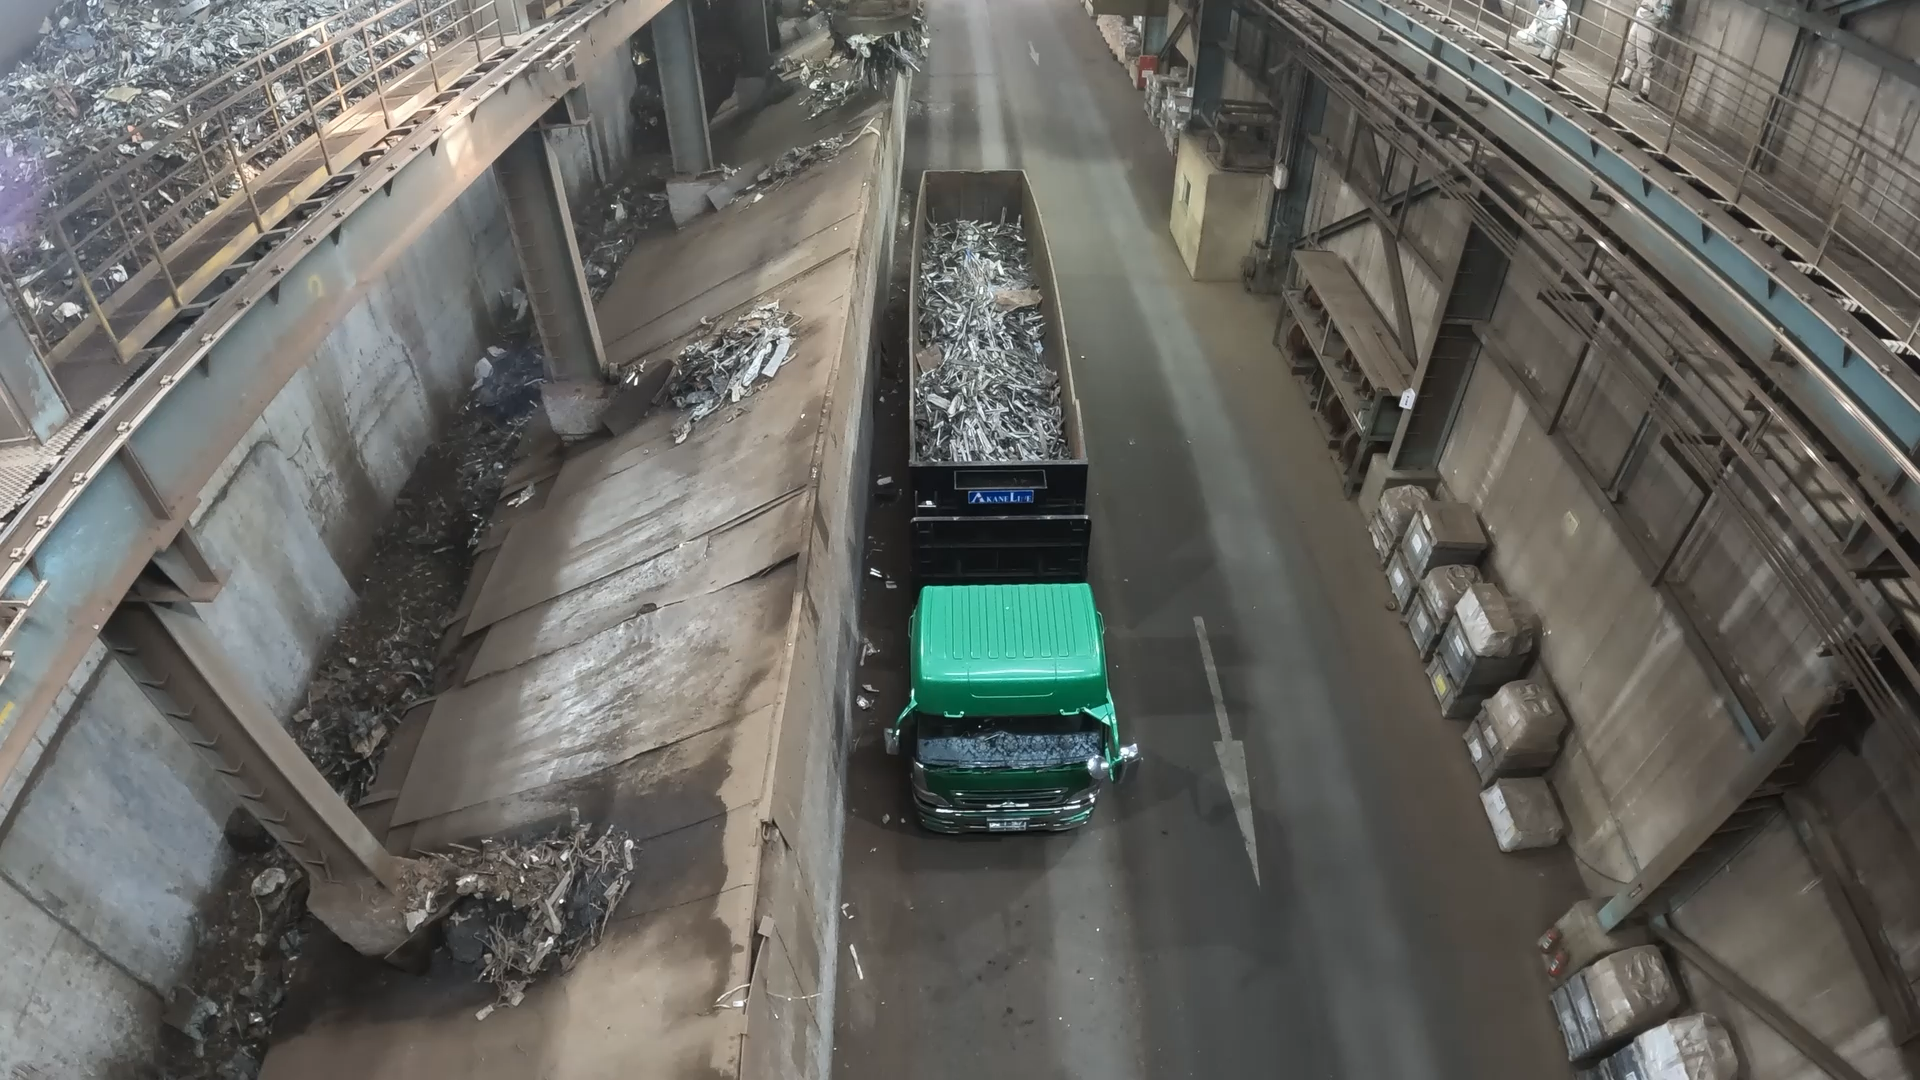truck: (909, 169, 1085, 464)
